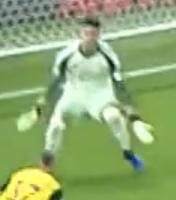goalkeeper: (12, 7, 166, 173)
